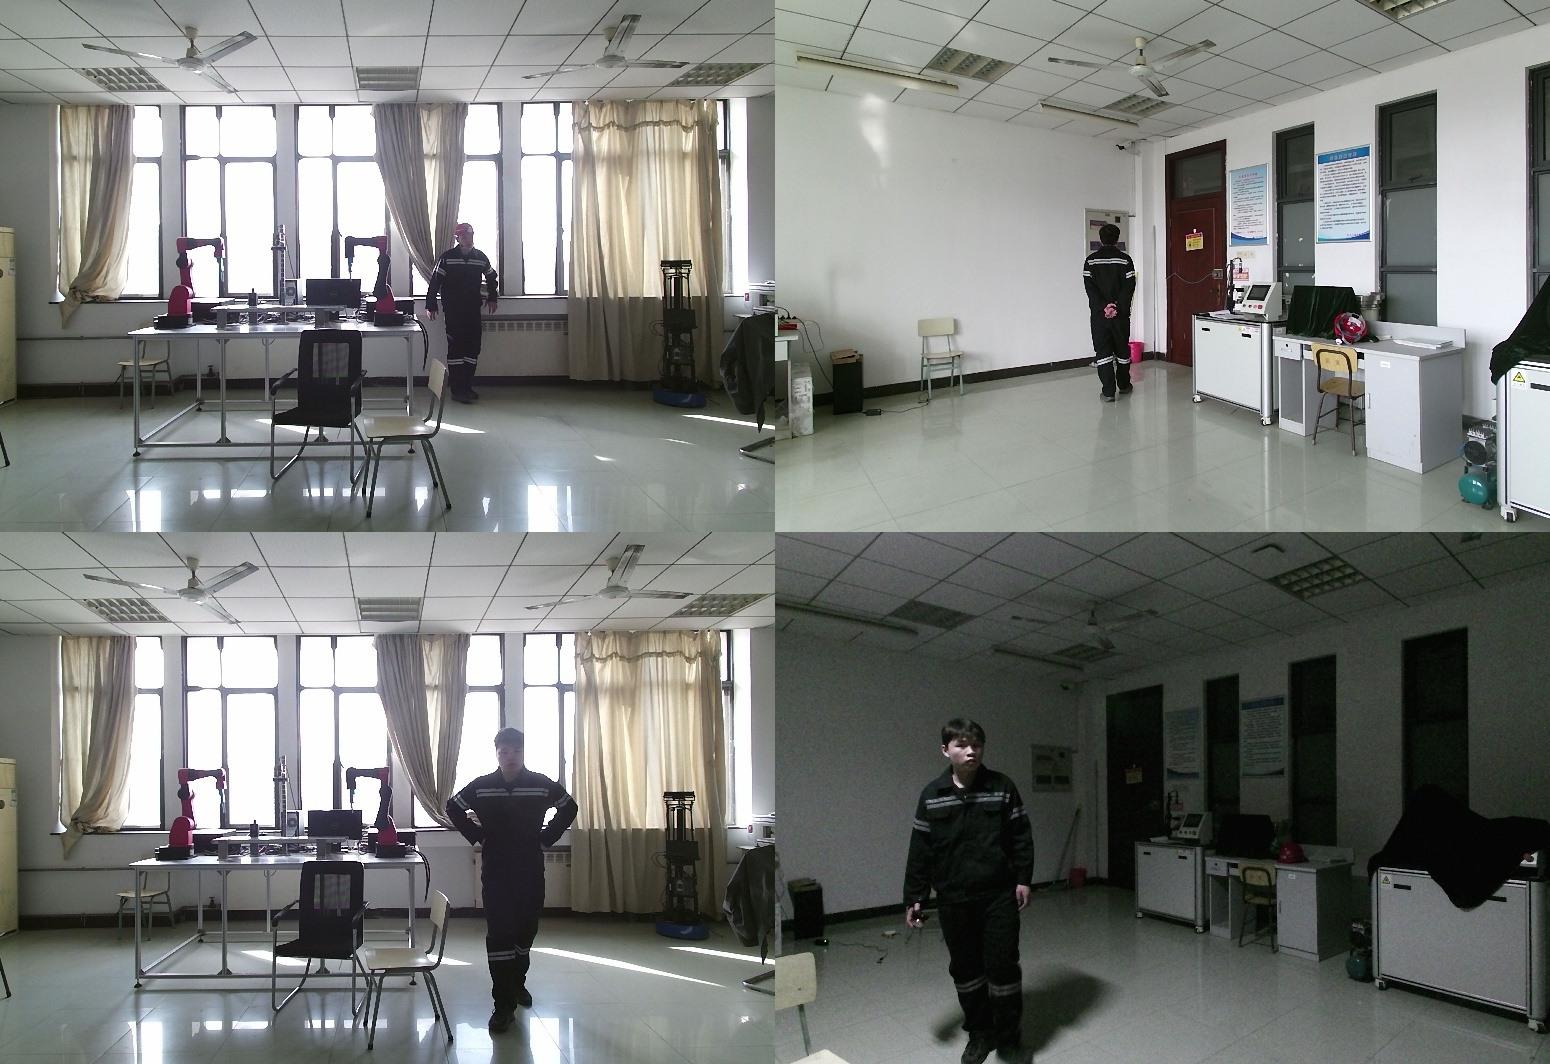person: (904, 719, 1043, 1064), (448, 729, 589, 1030), (427, 225, 502, 413), (1077, 224, 1140, 407)
